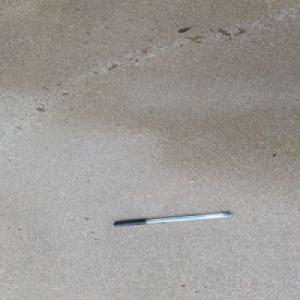Pen: (112, 211, 234, 227)
